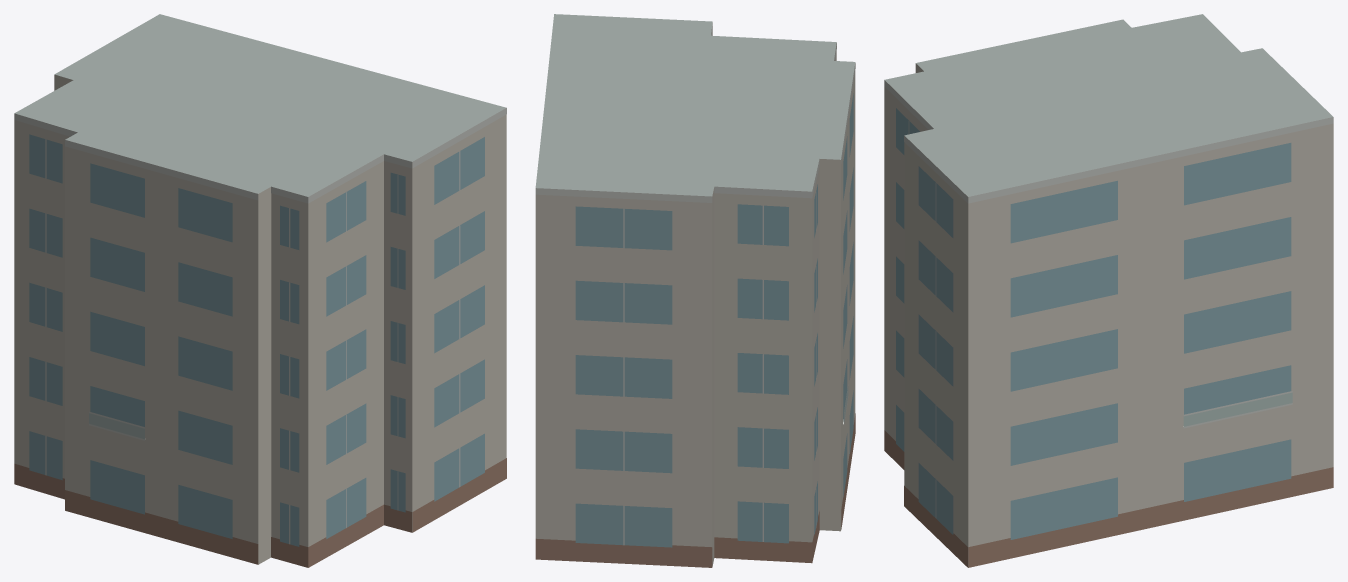
The model's file is survey-upis-32959127.glb.
3 views of the same model, side by side, from view 1: azimuth 30°, elevation 25°; view 2: azimuth 150°, elevation 25°; view 3: azimuth 270°, elevation 25° (orthographic).
Visible parts, largest first — view 1: survey-upis-32959127.tmp; view 2: survey-upis-32959127.tmp; view 3: survey-upis-32959127.tmp.
Boxes of the visible parts, box(x1,y1,x2,y2) form: survey-upis-32959127.tmp: box(14, 14, 506, 567); survey-upis-32959127.tmp: box(535, 14, 855, 567); survey-upis-32959127.tmp: box(884, 14, 1333, 567).
Bounding box in the file's own units: 14.56 × 13.75 × 15.1.
